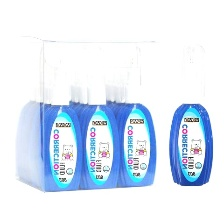book: (8, 34, 162, 195)
correction_fluid: (35, 41, 84, 192), (167, 39, 214, 187), (77, 42, 122, 191), (113, 42, 158, 188)
